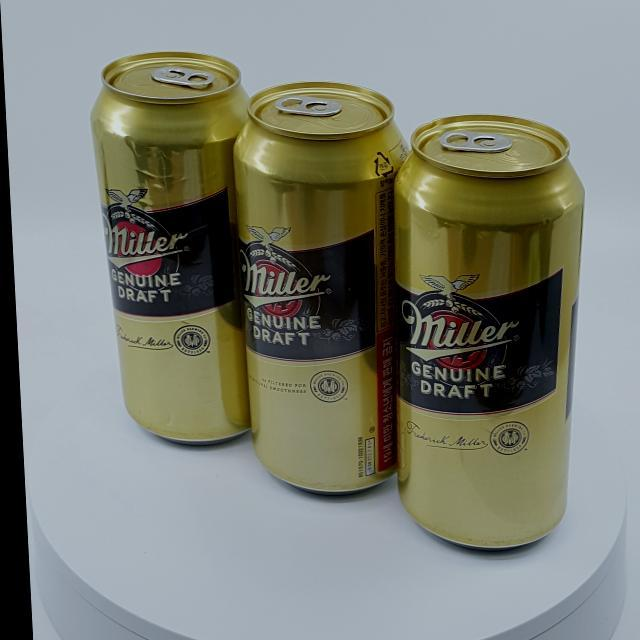beer-can: (377, 113, 597, 551), (228, 81, 423, 495), (86, 51, 268, 445)
